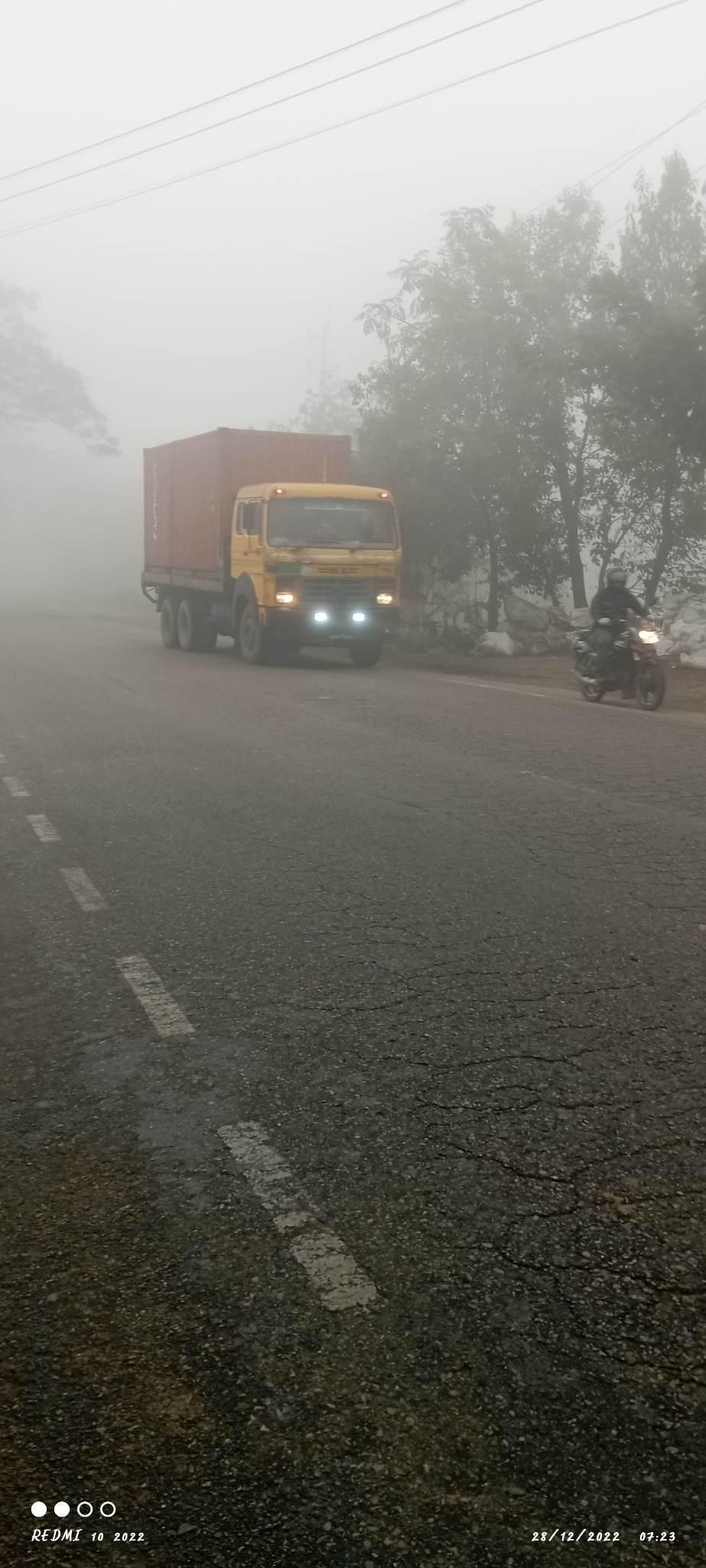Bike: (550, 556, 677, 719)
Truck: (129, 401, 419, 681)
